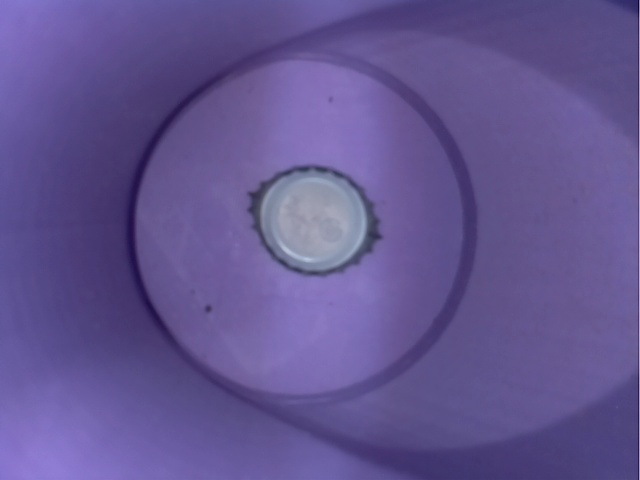capsule: (233, 159, 393, 277)
